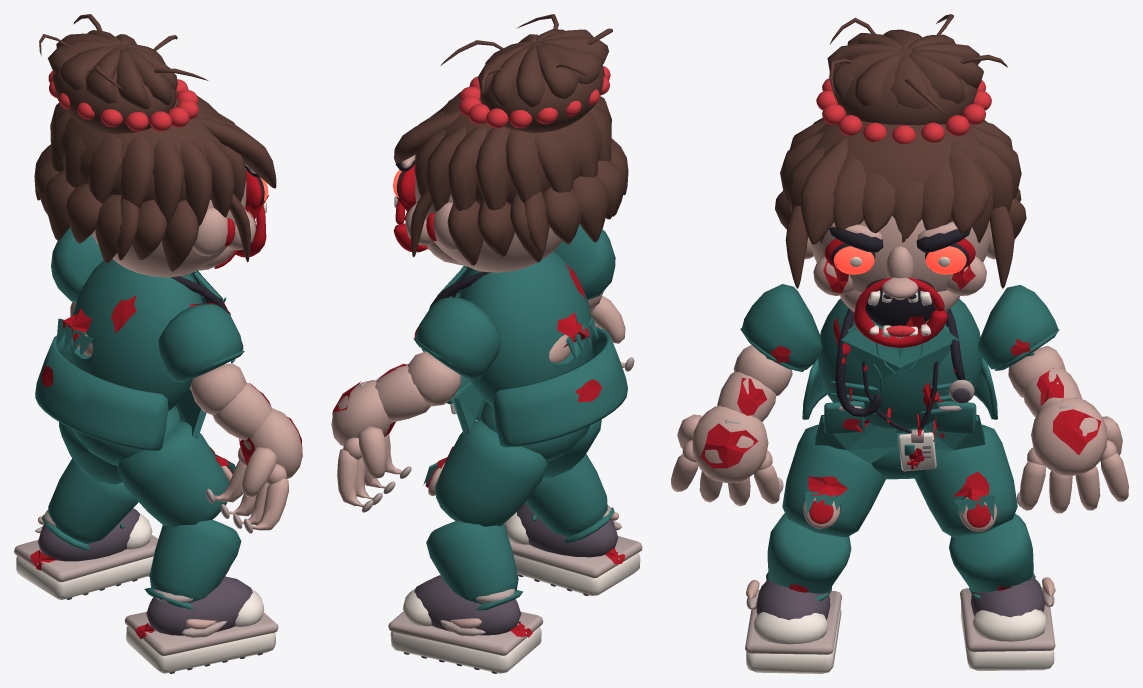
3 views of the same model, side by side, from view 1: azimuth 30°, elevation 25°; view 2: azimuth 150°, elevation 25°; view 3: azimuth 270°, elevation 25° (orthographic). The views are drawn at different scales.
Visible parts, largest first — view 1: head__pal_woodWarm, torso__pal_backpackTeal, legR__pal_backpackTeal, shinR__pal_backpackTeal, handR__pal_infectedSkin, shinL__pal_backpackTeal, armR__pal_backpackTeal, head__pal_infectedSkin, footR__pal_picketWhite, footR__pal_asphalt, footL__pal_picketWhite, footR__pal_sidewalk (+11 smaller); view 2: head__pal_woodWarm, torso__pal_backpackTeal, legL__pal_backpackTeal, shinL__pal_backpackTeal, handL__pal_infectedSkin, armL__pal_backpackTeal, shinR__pal_backpackTeal, head__pal_infectedSkin, footL__pal_picketWhite, footL__pal_asphalt, footL__pal_sidewalk, footR__pal_picketWhite (+12 smaller); view 3: head__pal_woodWarm, torso__pal_backpackTeal, handL__pal_infectedSkin, head__pal_infectedSkin, handR__pal_infectedSkin, legR__pal_backpackTeal, legL__pal_backpackTeal, shinR__pal_backpackTeal, shinL__pal_backpackTeal, armR__pal_backpackTeal, armL__pal_backpackTeal, footR__pal_picketWhite (+23 smaller).
Part boxes in pixels (box(x1,y1,x2,y2)): head__pal_woodWarm: box(34, 14, 276, 271); torso__pal_backpackTeal: box(35, 259, 226, 450); legR__pal_backpackTeal: box(117, 421, 235, 526); shinR__pal_backpackTeal: box(144, 519, 241, 609); handR__pal_infectedSkin: box(214, 408, 302, 530); shinL__pal_backpackTeal: box(41, 458, 138, 550); armR__pal_backpackTeal: box(158, 303, 244, 382); head__pal_infectedSkin: box(91, 164, 256, 277); footR__pal_picketWhite: box(126, 588, 275, 673); footR__pal_asphalt: box(146, 576, 262, 673); footL__pal_picketWhite: box(16, 512, 153, 599); footR__pal_sidewalk: box(124, 589, 278, 655); head__pal_woodWarm: box(394, 14, 628, 265); torso__pal_backpackTeal: box(438, 251, 627, 447); legL__pal_backpackTeal: box(423, 420, 547, 526); shinL__pal_backpackTeal: box(426, 521, 522, 610); handL__pal_infectedSkin: box(331, 380, 402, 507); armL__pal_backpackTeal: box(413, 297, 501, 379); shinR__pal_backpackTeal: box(524, 454, 614, 542); head__pal_infectedSkin: box(401, 155, 562, 272); footL__pal_picketWhite: box(390, 588, 541, 673); footL__pal_asphalt: box(404, 575, 521, 673); footL__pal_sidewalk: box(388, 589, 543, 655); footR__pal_picketWhite: box(504, 512, 640, 595); head__pal_woodWarm: box(775, 14, 1026, 288); torso__pal_backpackTeal: box(802, 298, 997, 463); handL__pal_infectedSkin: box(1019, 397, 1128, 513); head__pal_infectedSkin: box(804, 215, 995, 321); handR__pal_infectedSkin: box(671, 405, 779, 506); legR__pal_backpackTeal: box(782, 424, 885, 537); legL__pal_backpackTeal: box(915, 424, 1017, 536); shinR__pal_backpackTeal: box(766, 513, 851, 600); shinL__pal_backpackTeal: box(949, 513, 1035, 599); armR__pal_backpackTeal: box(740, 284, 822, 371); armL__pal_backpackTeal: box(977, 285, 1059, 370); footR__pal_picketWhite: box(746, 604, 841, 673).
Size of what is drawn, in the model's own units: 0.6609 by 1.73 by 1.21.
